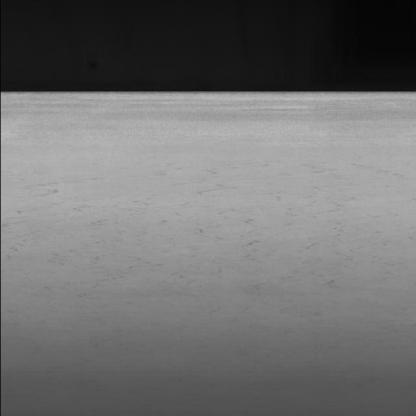silk_spot: (13, 170, 362, 293)
